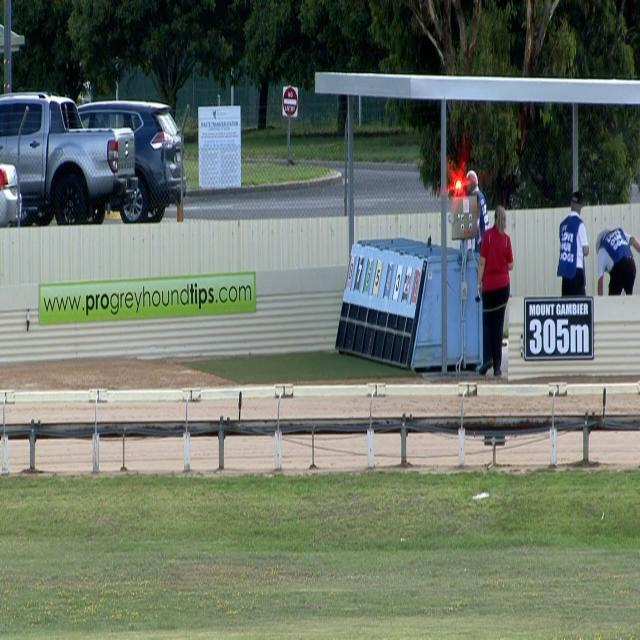rail: (0, 413, 640, 438)
